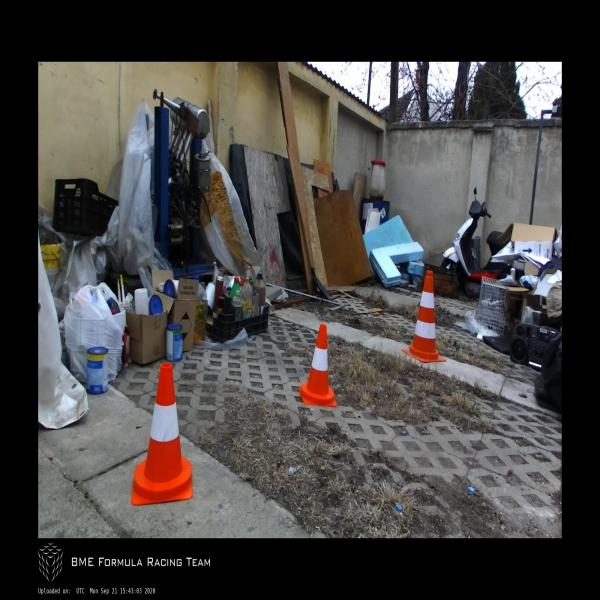large_orange_cone: (401, 269, 446, 363)
orange_cone: (130, 362, 192, 506), (297, 324, 336, 406)
